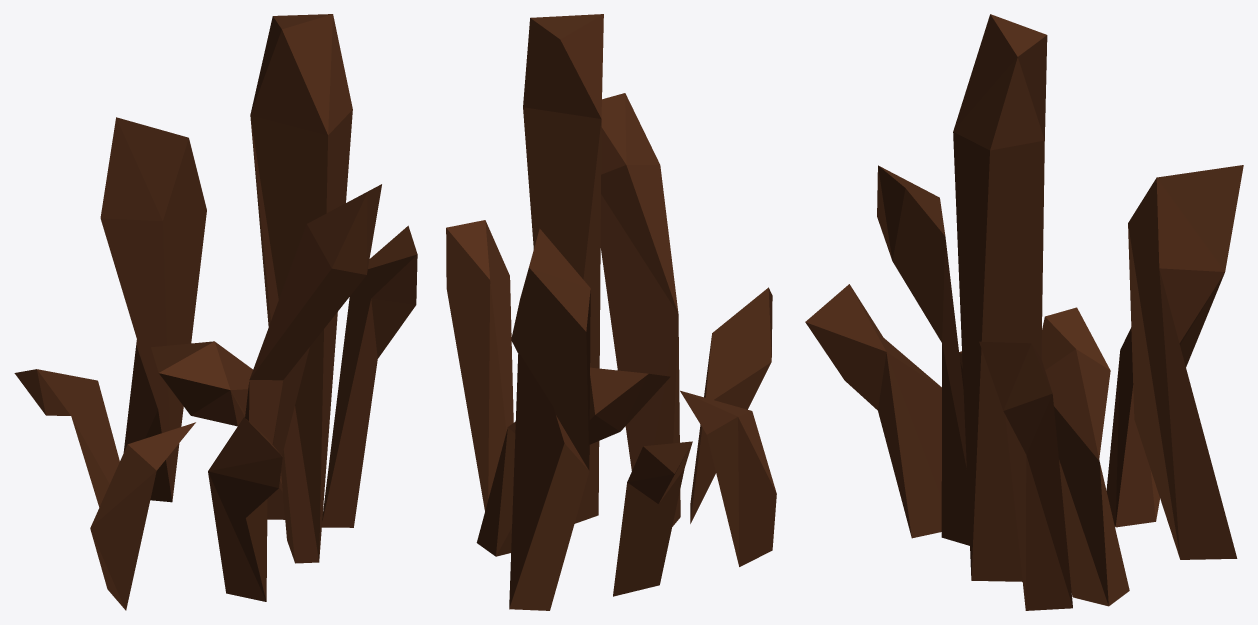
The model's file is ShrubRoots02.fbx.
The picture shows the model from 3 angles, left to right: view 1: azimuth 30°, elevation 25°; view 2: azimuth 150°, elevation 25°; view 3: azimuth 270°, elevation 25°; orthographic projection. The views are drawn at different scales.
Visible parts, largest first — view 1: ShrubRoots02; view 2: ShrubRoots02; view 3: ShrubRoots02.
Part boxes in pixels (x1,y1,x2,y2): ShrubRoots02: [14, 14, 417, 610]; ShrubRoots02: [446, 14, 776, 610]; ShrubRoots02: [805, 14, 1243, 610].
Size of the model in its own units: 39.4 by 60.48 by 43.32.
